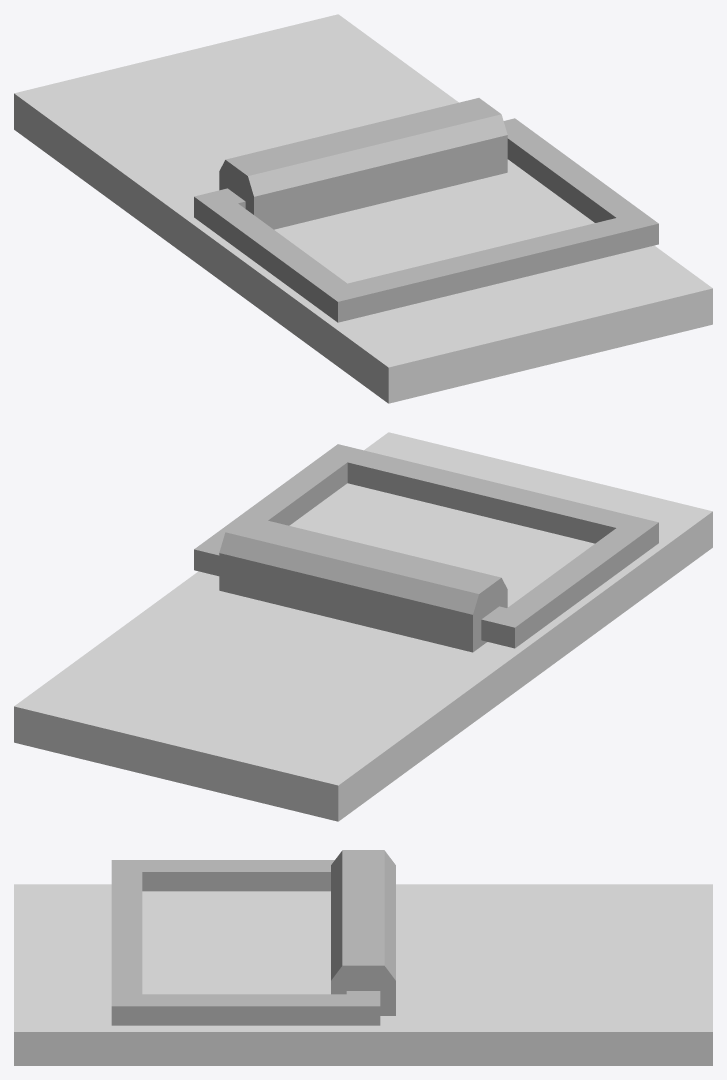
File: Rat Trap.FBX
3 views of the same model, one above another, from view 1: azimuth 30°, elevation 25°; view 2: azimuth 150°, elevation 25°; view 3: azimuth 270°, elevation 25° (orthographic). The views are drawn at different scales.
Visible parts, largest first — view 1: Box001; view 2: Box001; view 3: Box001.
Boxes of the visible parts, left/top/right/bottom form: Box001: left=14, top=14, right=712, bottom=403; Box001: left=14, top=432, right=712, bottom=821; Box001: left=14, top=850, right=712, bottom=1065.
Size of the model in its own units: 80 by 21.24 by 160.
